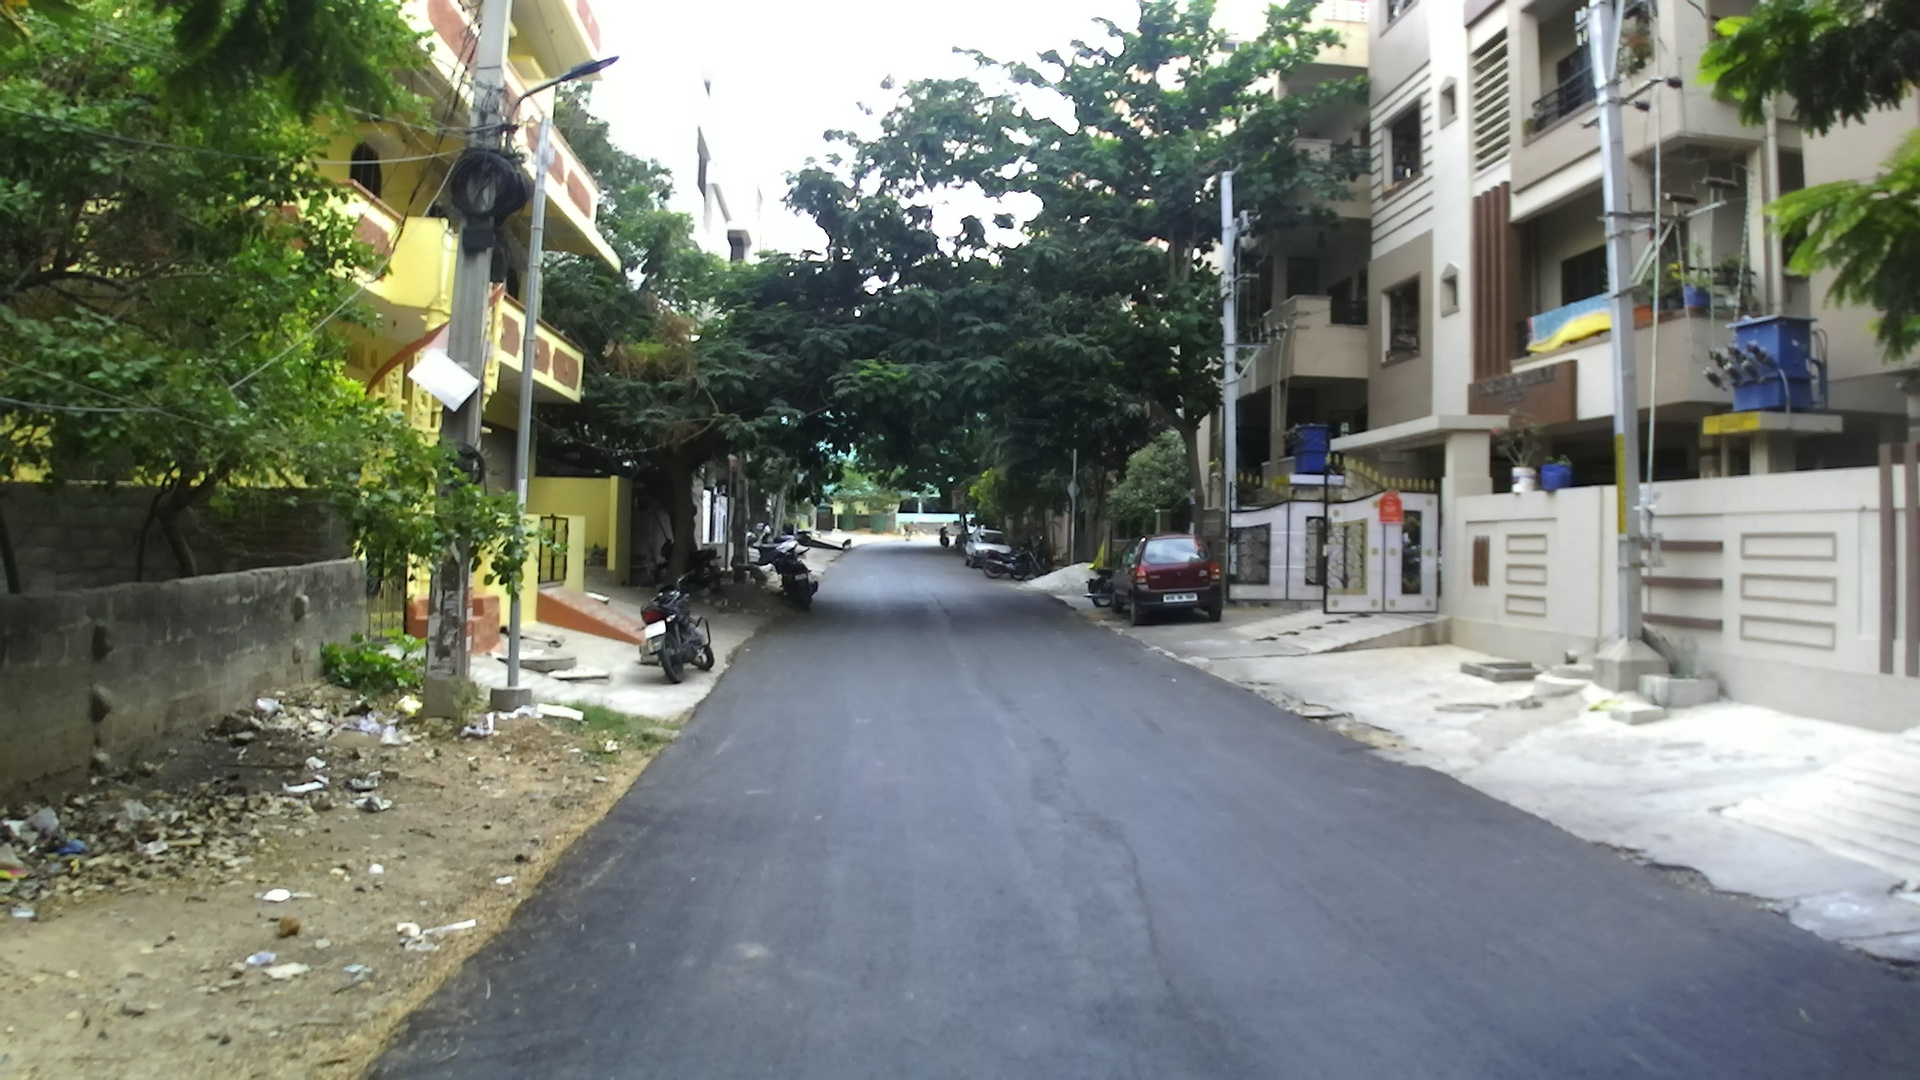vehicle: (1120, 534, 1225, 622), (644, 593, 717, 682), (967, 539, 1030, 579), (965, 535, 1017, 578)
